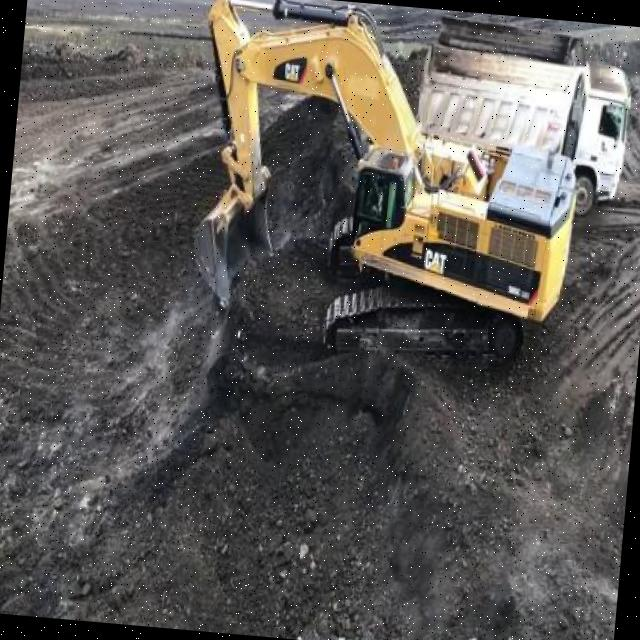Dump Truck: (402, 12, 638, 216)
Excavator: (159, 0, 592, 403)
